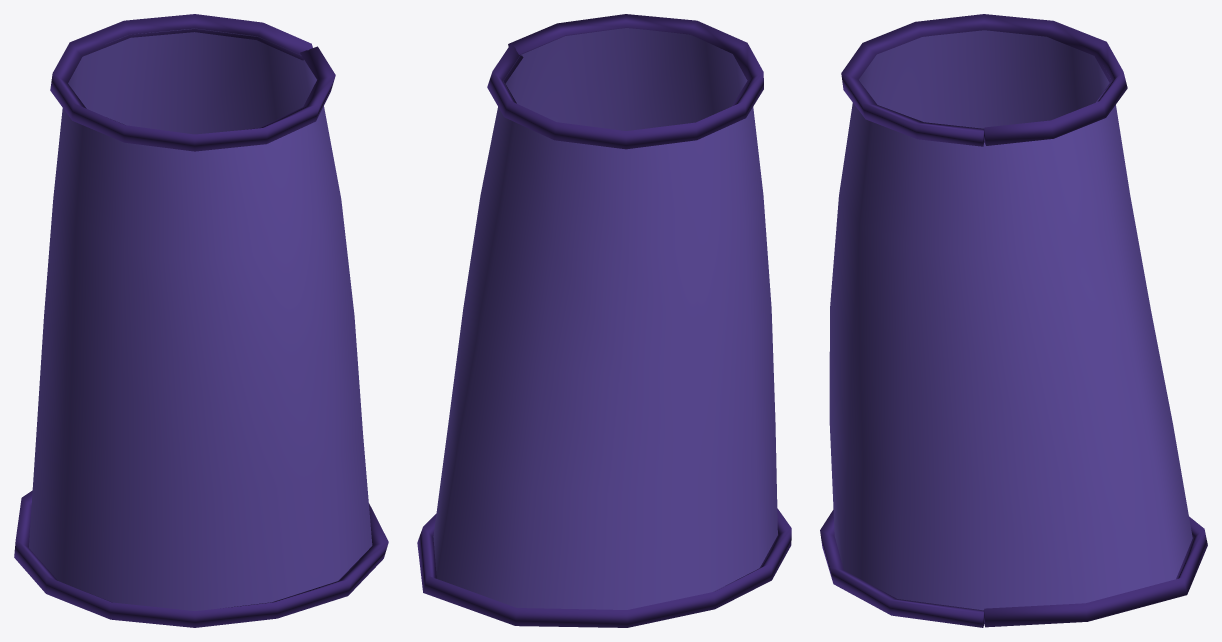
File: demonite_armor_cuisse.L.glb
The picture shows the model from 3 angles, left to right: view 1: azimuth 30°, elevation 25°; view 2: azimuth 150°, elevation 25°; view 3: azimuth 270°, elevation 25°; orthographic projection. The views are drawn at different scales.
Visible parts, largest first — view 1: demonite_armor_cuisse.L; view 2: demonite_armor_cuisse.L; view 3: demonite_armor_cuisse.L.
Boxes of the visible parts, x1=… form: demonite_armor_cuisse.L: x1=14, y1=14, x2=388, y2=627; demonite_armor_cuisse.L: x1=417, y1=14, x2=791, y2=627; demonite_armor_cuisse.L: x1=820, y1=14, x2=1207, y2=627.
Size of the model in its own units: 0.2667 by 0.3856 by 0.2845.
